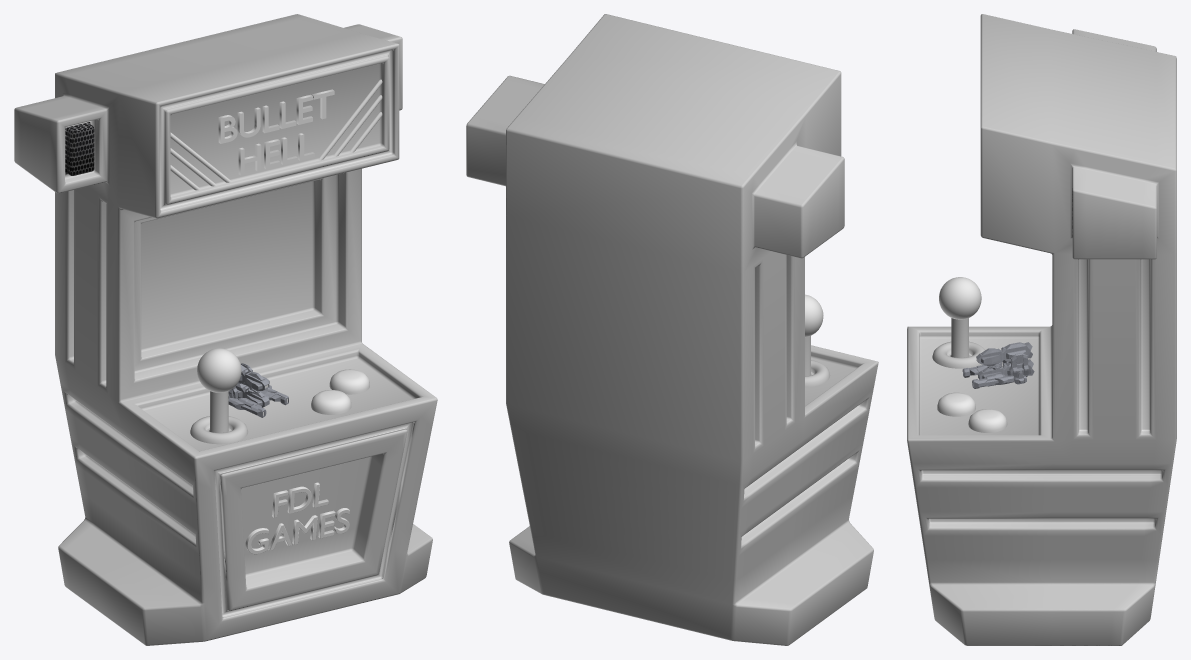
Rendered from ArcadeMacine001.fbx.
The picture shows the model from 3 angles, left to right: view 1: azimuth 30°, elevation 25°; view 2: azimuth 150°, elevation 25°; view 3: azimuth 270°, elevation 25°; orthographic projection. The views are drawn at different scales.
Parts seen in each view (by area): view 1: Cube, Text.001, Text, Torus.001, ME_ship_IndexedFaceSet.006, Torus.002, Cylinder.004, Cylinder.001, Cylinder, Cylinder.005; view 2: Cube, Torus.001, Torus.002; view 3: Cube, ME_ship_IndexedFaceSet.006, Torus.001, Torus.002, Cylinder.001, Cylinder.
Part boxes in pixels (bbox=[...]): Cube: bbox=[14, 14, 437, 645]; Text.001: bbox=[218, 89, 334, 175]; Text: bbox=[245, 482, 349, 554]; Torus.001: bbox=[190, 391, 247, 444]; ME_ship_IndexedFaceSet.006: bbox=[228, 363, 288, 417]; Torus.002: bbox=[197, 348, 241, 392]; Cylinder.004: bbox=[170, 79, 382, 182]; Cylinder.001: bbox=[311, 390, 351, 414]; Cylinder: bbox=[329, 369, 369, 394]; Cylinder.005: bbox=[170, 95, 382, 186]; Cube: bbox=[466, 14, 878, 645]; Torus.001: bbox=[805, 336, 830, 387]; Torus.002: bbox=[805, 294, 823, 337]; Cube: bbox=[907, 14, 1176, 645]; ME_ship_IndexedFaceSet.006: bbox=[962, 342, 1034, 388]; Torus.001: bbox=[932, 318, 985, 368]; Torus.002: bbox=[939, 277, 981, 319]; Cylinder.001: bbox=[937, 392, 975, 416]; Cylinder: bbox=[968, 409, 1007, 432].
Size of the model in its own units: 284 by 417 by 200.
